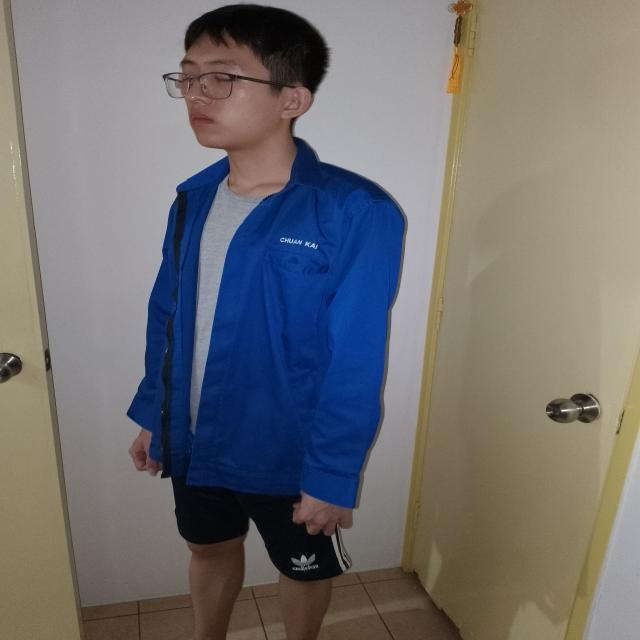person_with_labcoat: (127, 5, 404, 640)
